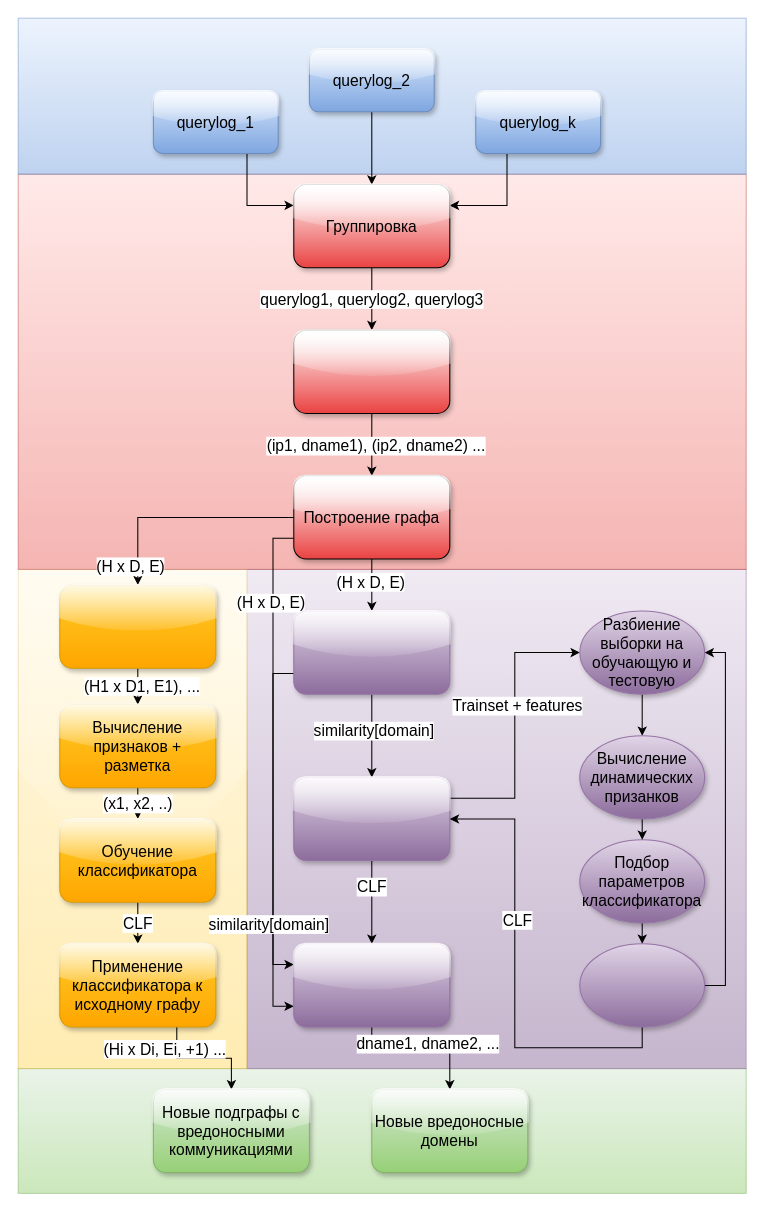
This 764x1212 diagram has some shape labels left out. Here are the shapes that lost their labels. From the top down, the centre of each, then its label:
At (372,373): "Разбор".
At (138,627): "Декомпозиция графа".
At (372,653): "Вычисление статичных признаков".
At (372,820): "Тренировка классификатора".
At (372,986): "Применение классификатора ко всем входным данным".
At (643,986): "Тренировка".
